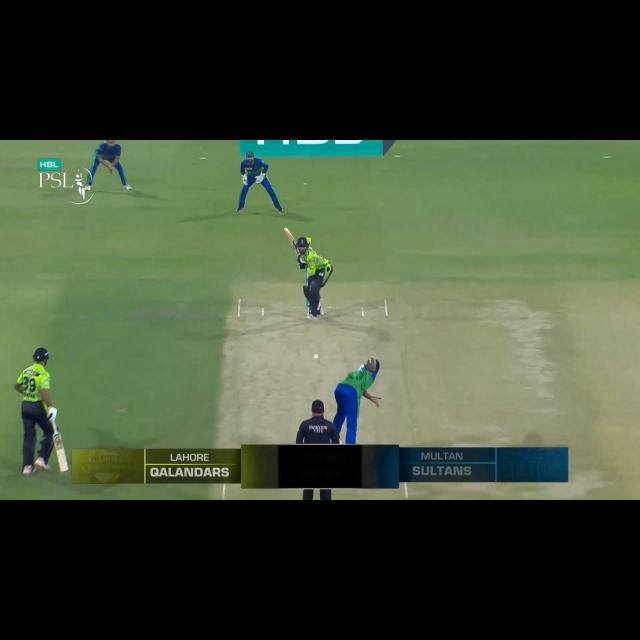bat: (51, 433, 72, 476), (284, 227, 299, 255)
toe: (58, 463, 69, 473), (283, 228, 290, 235)
